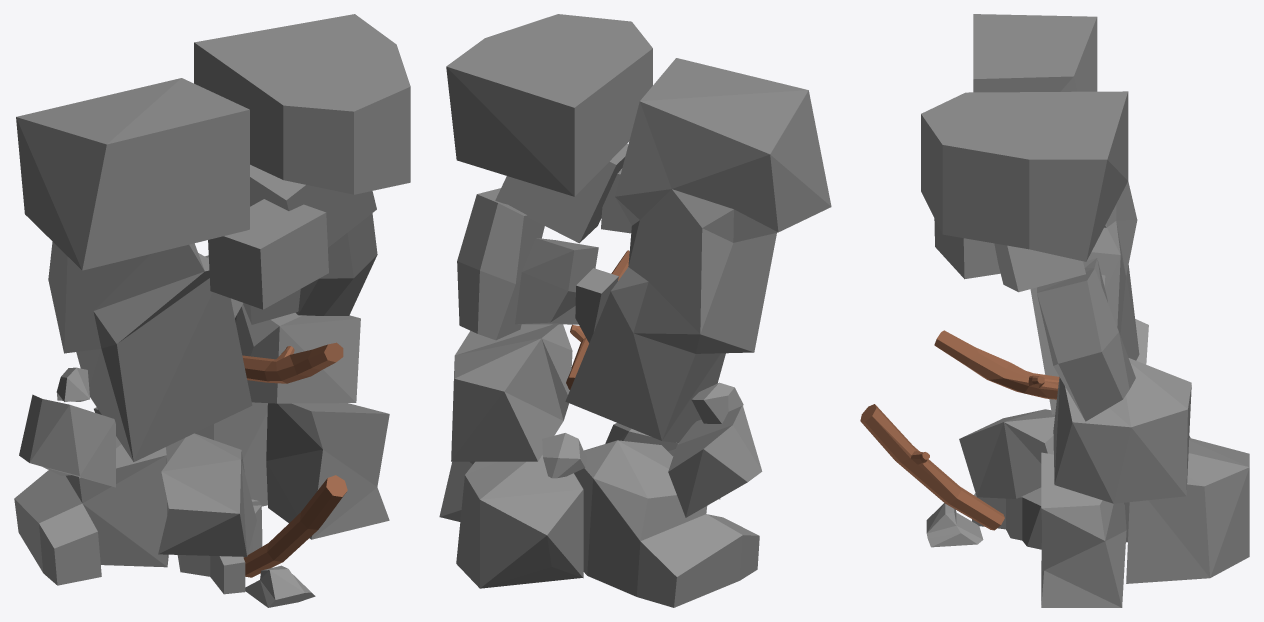
Rendered from Rubble.fbx.
3 views of the same model, side by side, from view 1: azimuth 30°, elevation 25°; view 2: azimuth 150°, elevation 25°; view 3: azimuth 270°, elevation 25° (orthographic). The views are drawn at different scales.
Visible parts, largest first — view 1: Rubble, Lever wood; view 2: Rubble; view 3: Rubble, Lever wood.
Boxes of the visible parts, bbox=[...] form: Rubble: bbox=[14, 14, 410, 607]; Lever wood: bbox=[243, 475, 347, 577]; Rubble: bbox=[439, 14, 831, 607]; Rubble: bbox=[921, 14, 1249, 607]; Lever wood: bbox=[860, 404, 1004, 530].
Size of the model in its own units: 300 by 400 by 315.
